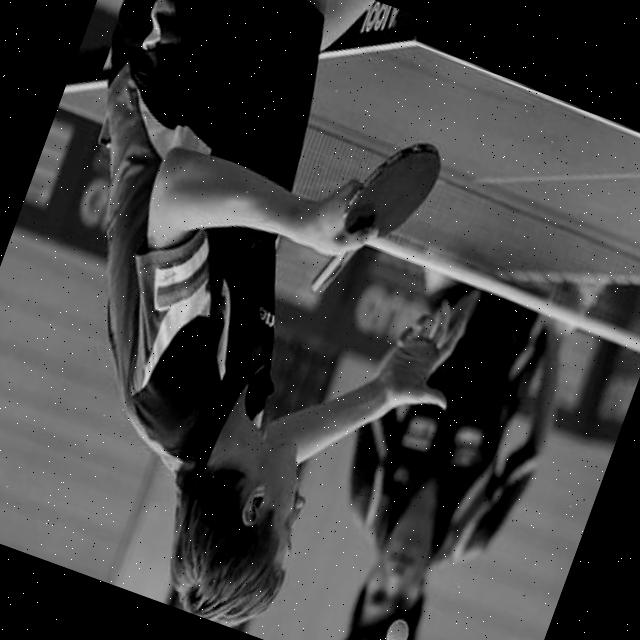ping-pong-ball: (380, 614, 412, 640)
